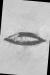D4: (2, 0, 49, 74)
